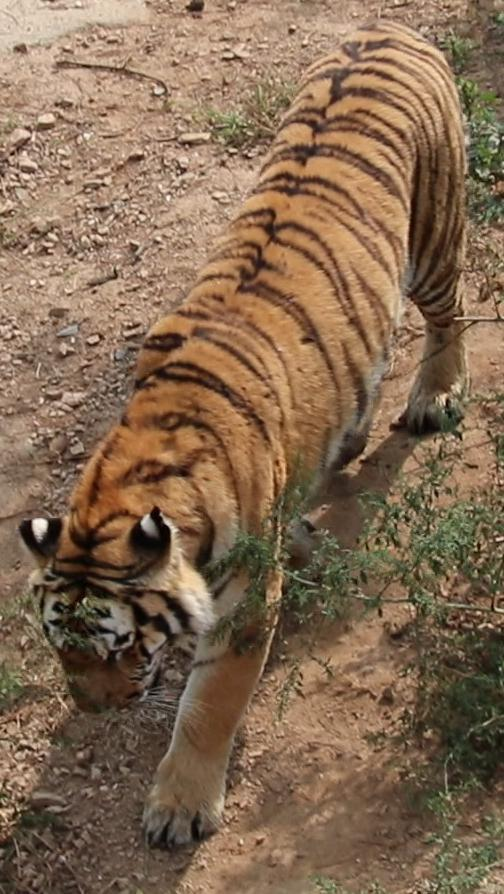tiger: (20, 22, 466, 845)
